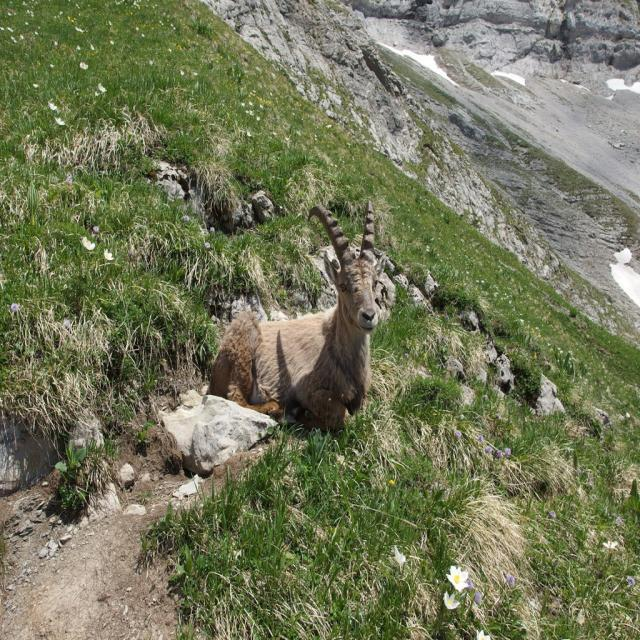Goat: (206, 199, 383, 434)
